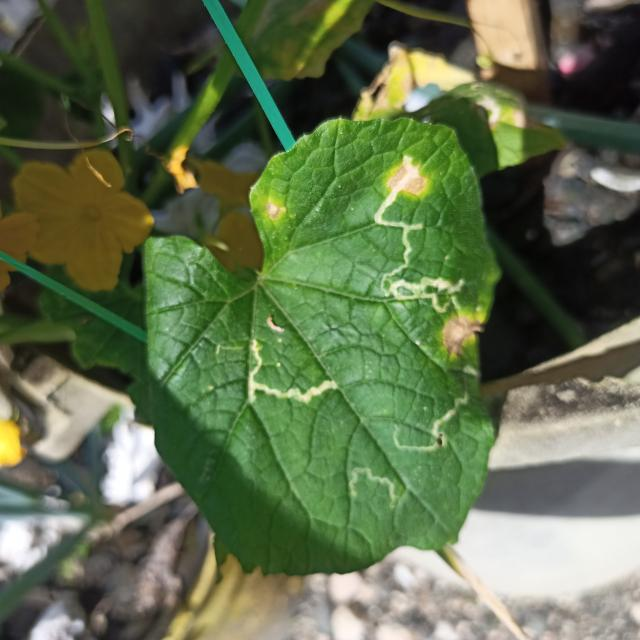disease_cucumber: (439, 313, 486, 354), (385, 162, 429, 196), (257, 195, 285, 225)
